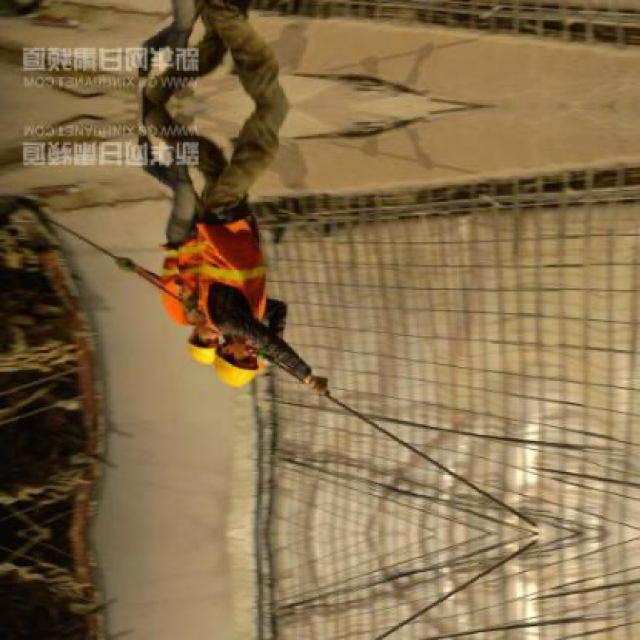con casco: (214, 312, 297, 410), (151, 302, 234, 385)
